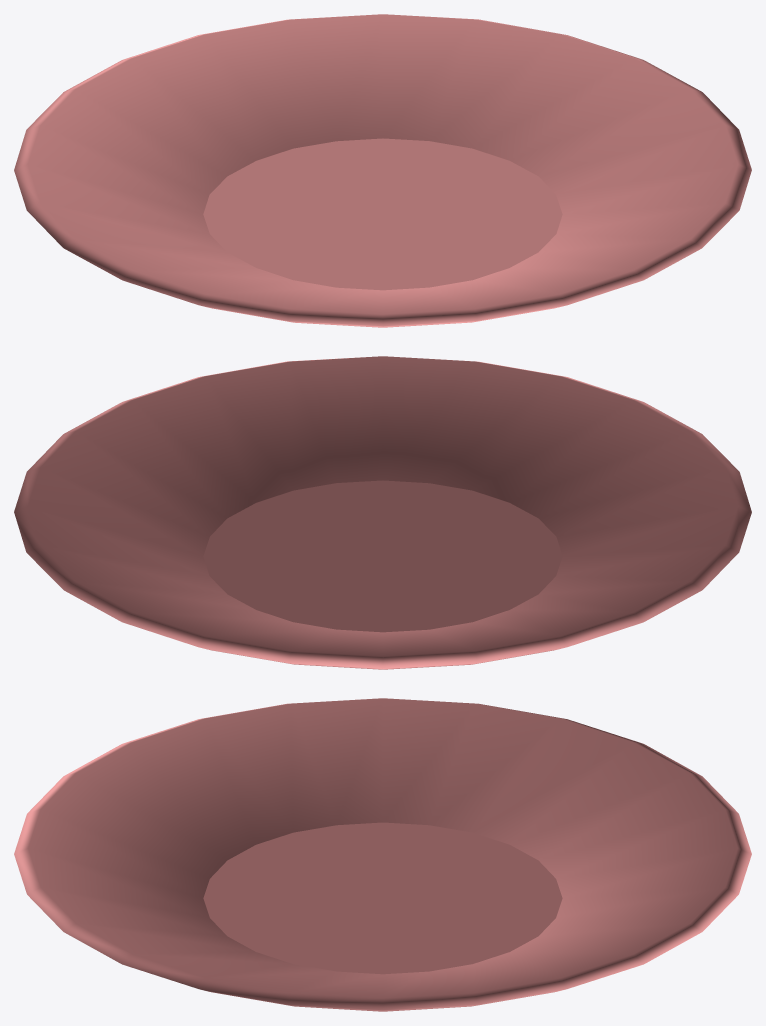
The model's file is TFYK_saucer_high_poly.FBX.
3 renders of one model, top to bottom at view 1: azimuth 30°, elevation 25°; view 2: azimuth 150°, elevation 25°; view 3: azimuth 270°, elevation 25°, orthographic.
Visible parts, largest first — view 1: TFYK_saucer_high_poly; view 2: TFYK_saucer_high_poly; view 3: TFYK_saucer_high_poly.
Boxes of the visible parts, <box> form: TFYK_saucer_high_poly: <box>14,14,751,327</box>; TFYK_saucer_high_poly: <box>14,356,751,669</box>; TFYK_saucer_high_poly: <box>14,698,751,1011</box>.
Size of the model in its own units: 0.1134 by 0.0123 by 0.1134.
